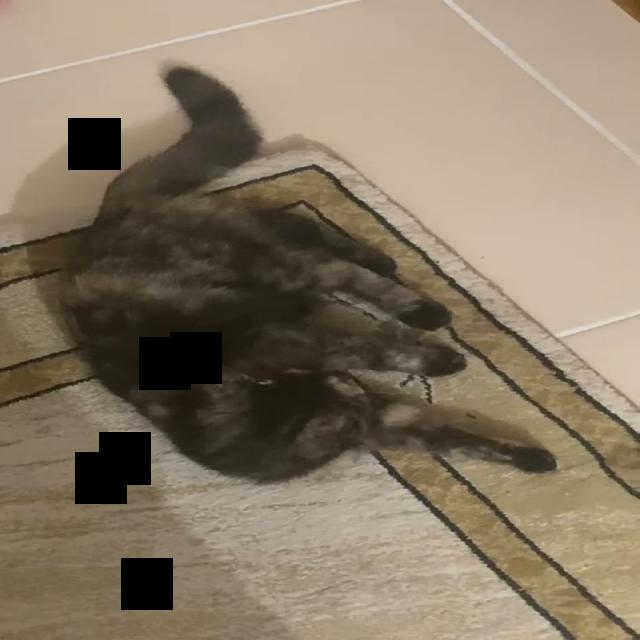authorized: (54, 61, 558, 485)
